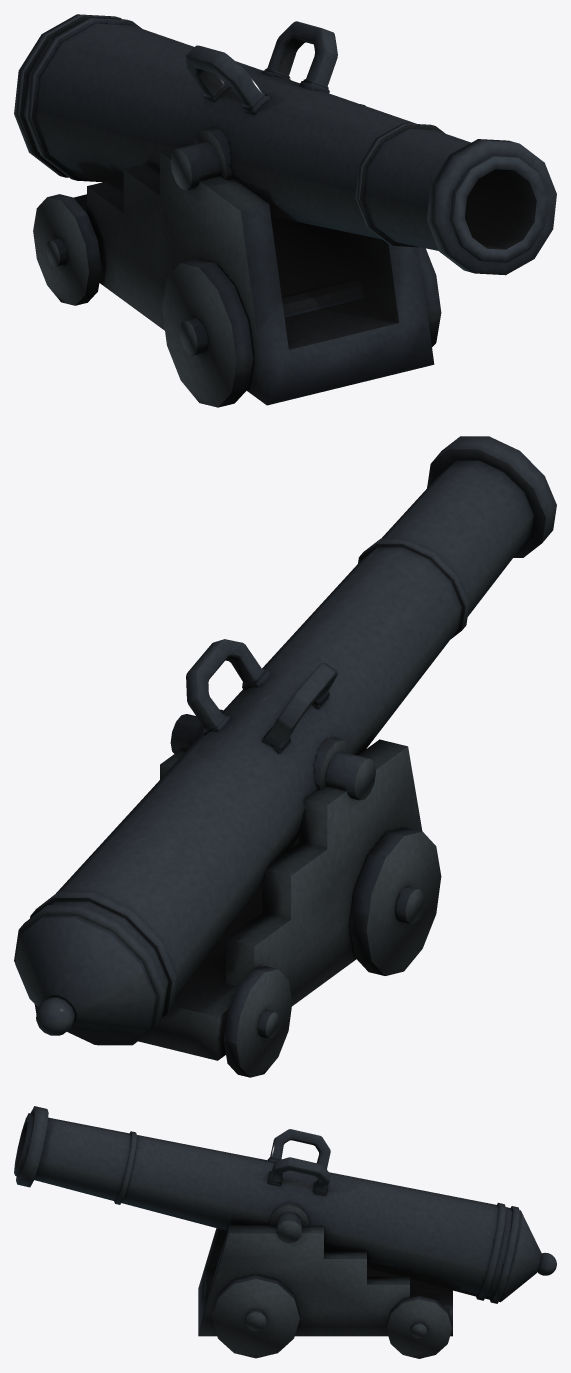
The model's file is gun.fbx.
The picture shows the model from 3 angles, top to bottom: view 1: azimuth 30°, elevation 25°; view 2: azimuth 150°, elevation 25°; view 3: azimuth 270°, elevation 25°; orthographic projection. The views are drawn at different scales.
Visible parts, largest first — view 1: gun; view 2: gun; view 3: gun.
Part boxes in pixels (<box>): gun: <box>14,14,556,407</box>; gun: <box>14,436,556,1077</box>; gun: <box>14,1106,556,1358</box>.
Bounding box in the file's own units: 71.42 × 113 × 253.
